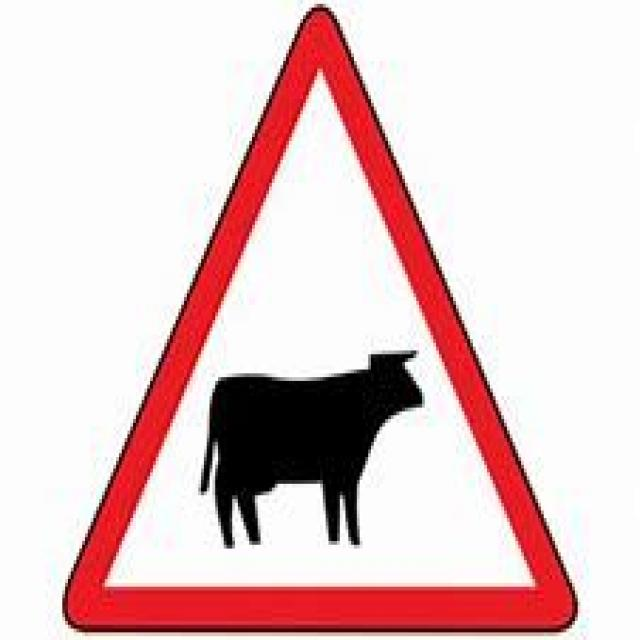CATTLE: (62, 0, 578, 636)
